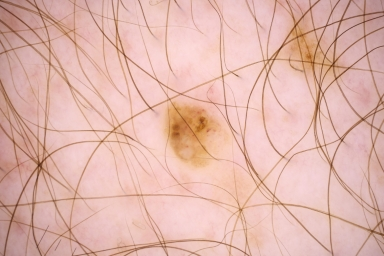melanoma: (168, 102, 221, 165), (293, 28, 337, 76)
